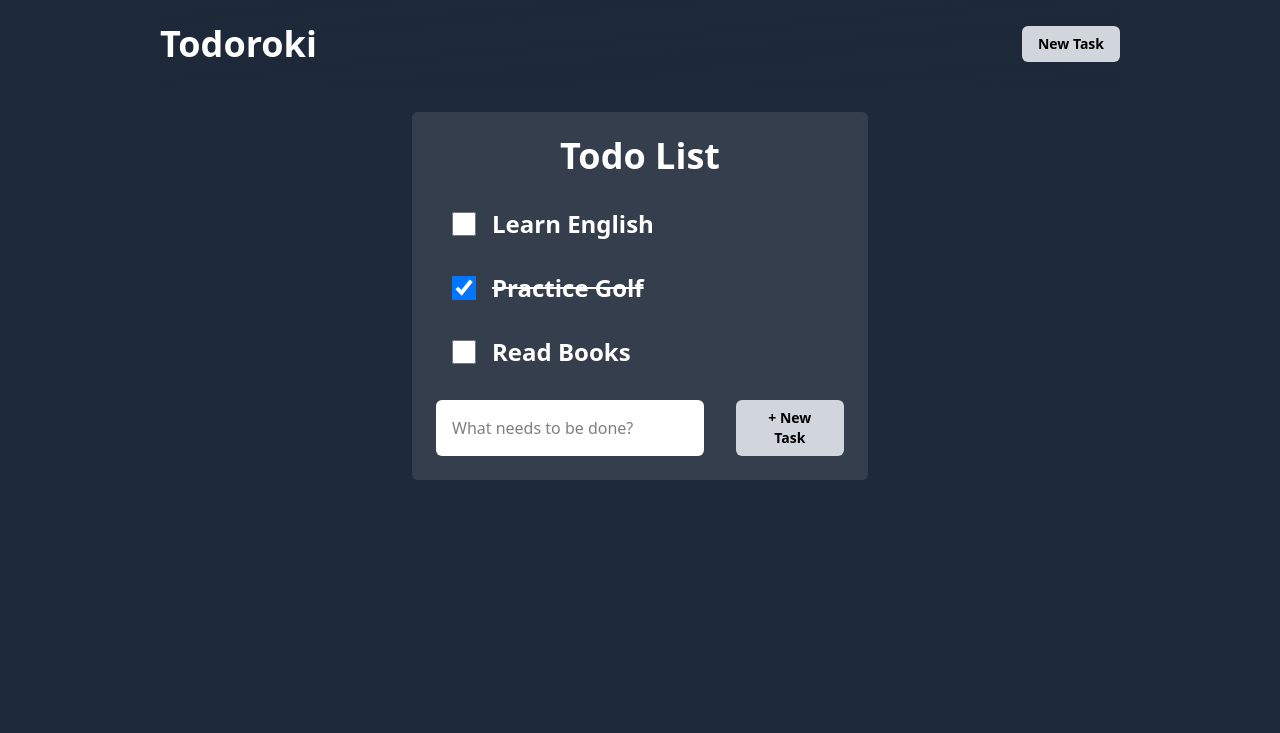
App › ToDoを追加できる
Type "テストタスク" into the field with placeholder "What needs to be done?".
click(570, 428); type("テストタスク")  # box [436,400,704,456]
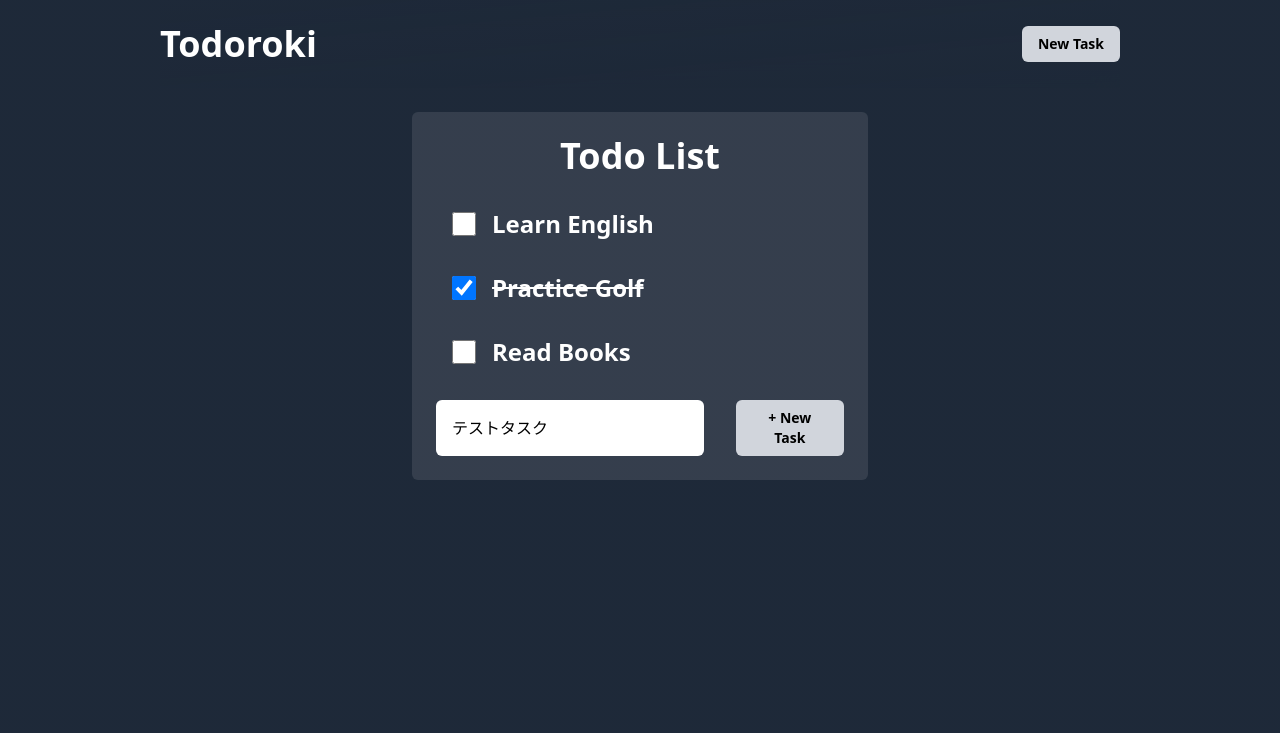
Click the button "+ New Task".
click(790, 428)  # box [736,400,844,456]
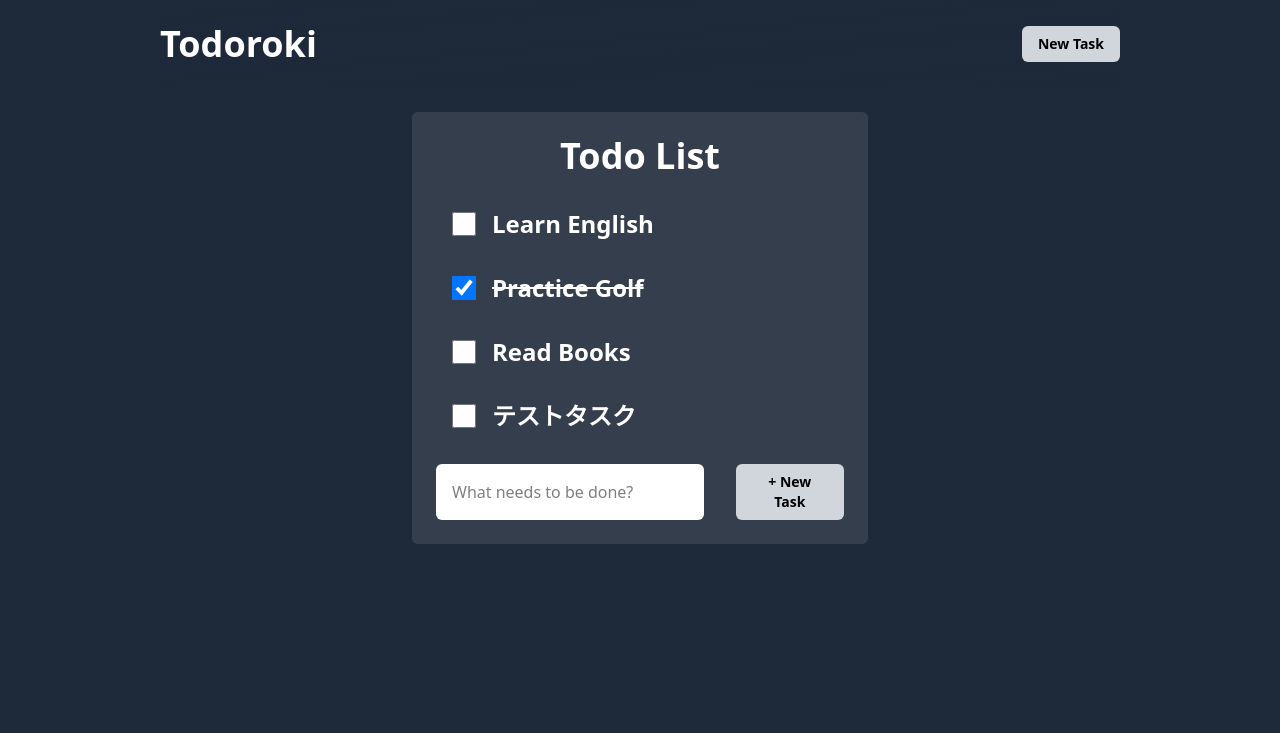
Expected: the text "テストタスク" is shown, [492,399,636,432]
